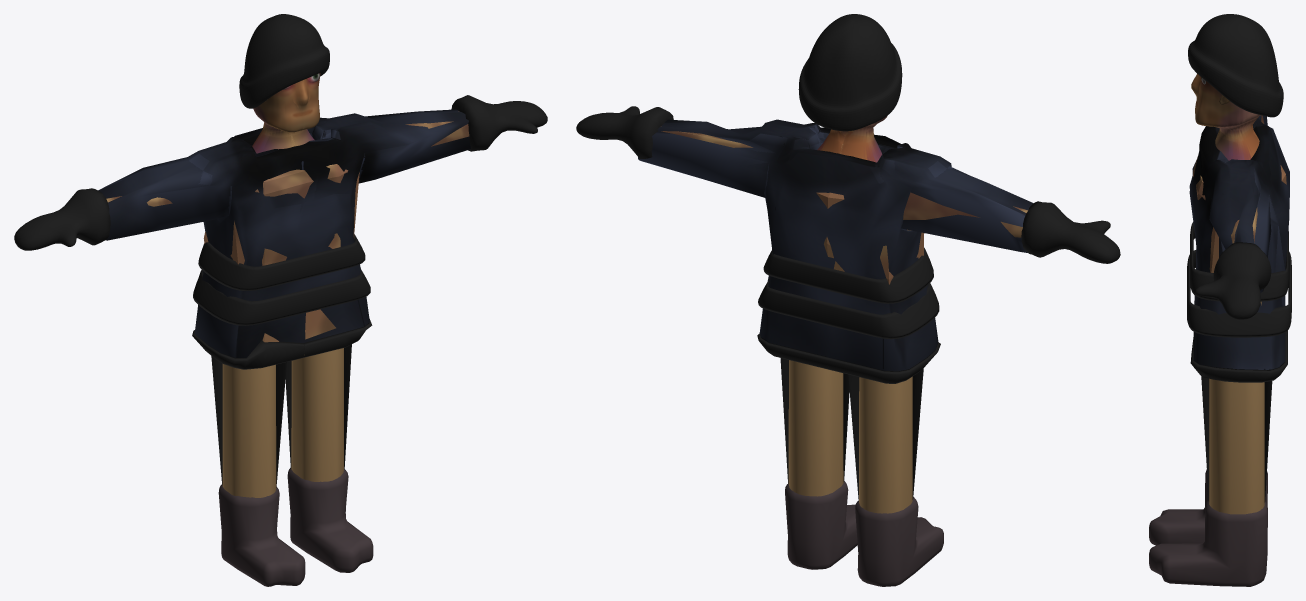
File: enemy.fbx
3 views of the same model, side by side, from view 1: azimuth 30°, elevation 25°; view 2: azimuth 150°, elevation 25°; view 3: azimuth 270°, elevation 25° (orthographic). The views are drawn at different scales.
Visible parts, largest first — view 1: govde.005, bacak/ayak, govde.002, kol/el.002, bere, kafa, Cube; view 2: govde.005, bacak/ayak, bere, govde.002, kol/el.002, kafa, Cube; view 3: bacak/ayak, govde.005, bere, govde.002, kol/el.002, kafa, Cube.
Part boxes in pixels (box(x1,y1,x2,y2)): govde.005: box(98, 109, 470, 369); bacak/ayak: box(211, 344, 373, 586); govde.002: box(193, 234, 370, 325); kol/el.002: box(14, 95, 547, 250); bere: box(239, 14, 329, 108); kafa: box(252, 73, 320, 153); Cube: box(203, 164, 359, 342); govde.005: box(638, 119, 1033, 383); bacak/ayak: box(780, 358, 943, 586); bere: box(798, 14, 902, 131); govde.002: box(758, 247, 939, 339); kol/el.002: box(576, 106, 1120, 263); kafa: box(817, 116, 887, 162); Cube: box(816, 192, 924, 284); bacak/ayak: box(1149, 376, 1272, 586); govde.005: box(1189, 115, 1289, 382); bere: box(1188, 14, 1283, 117); govde.002: box(1187, 222, 1291, 337); kol/el.002: box(1195, 115, 1271, 319); kafa: box(1191, 74, 1260, 160); Cube: box(1193, 156, 1286, 305).
Size of the model in its own units: 733 by 712 by 169.
Materials: 9 (6 with a texture image).
